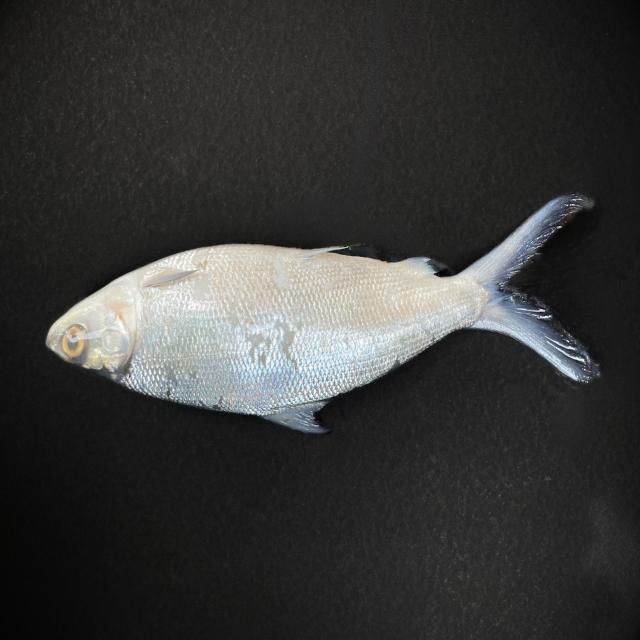850 g: (45, 194, 592, 434)
